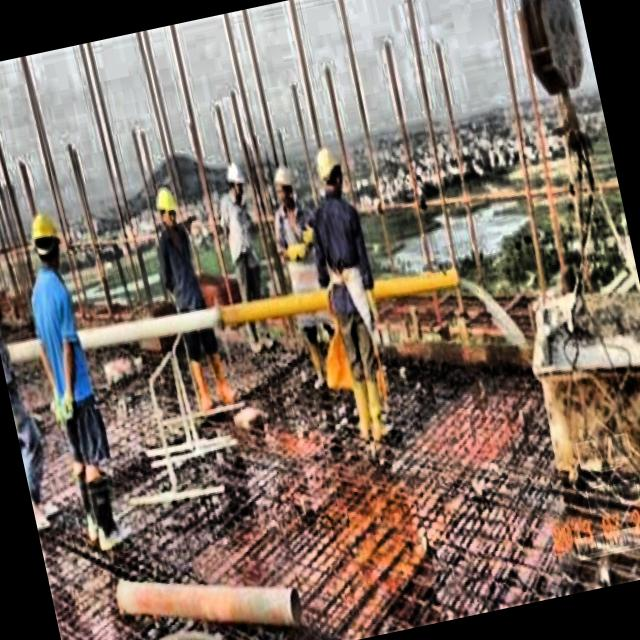helmet: (20, 207, 67, 276), (310, 139, 350, 200), (149, 180, 185, 233), (221, 158, 250, 204), (269, 162, 299, 202)
